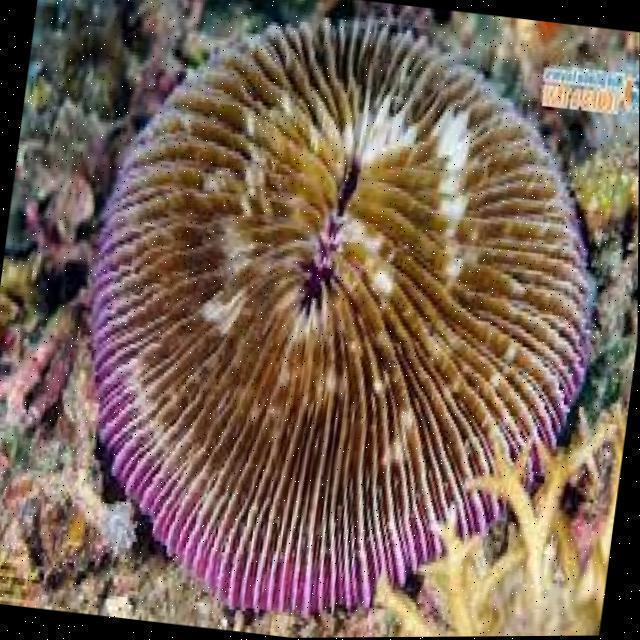Healthy Coral: (32, 66, 623, 640)
